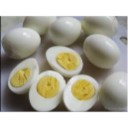begg: (66, 75, 99, 112), (7, 58, 36, 92), (3, 30, 40, 56), (48, 45, 83, 72)
